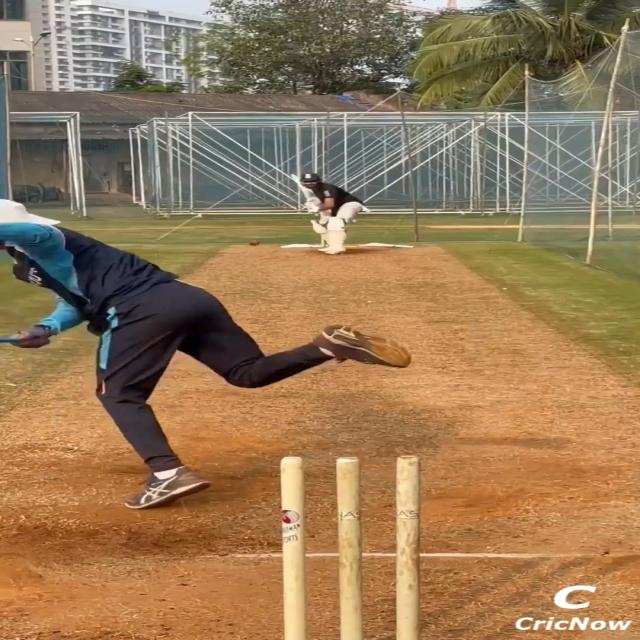ball: (248, 239, 262, 247)
stump: (272, 453, 426, 640)
